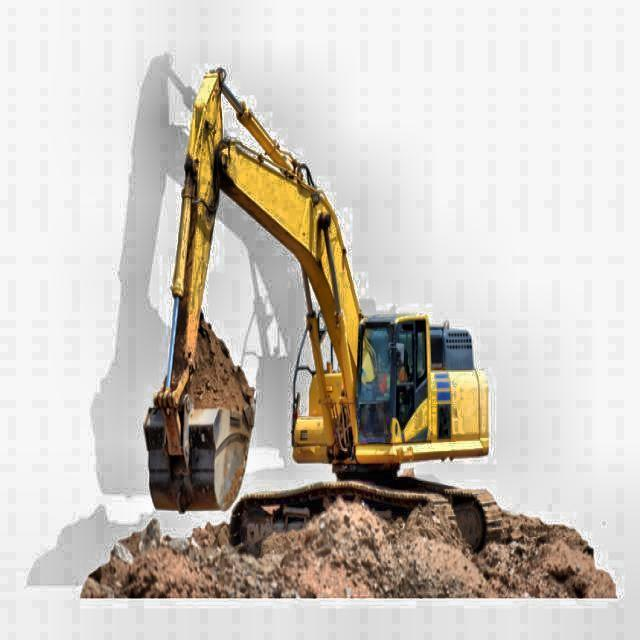excavator: (138, 62, 506, 556)
